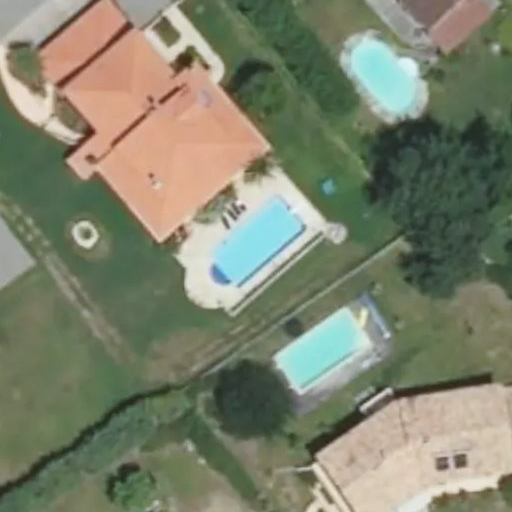pool: (208, 193, 309, 291), (271, 308, 372, 390), (341, 35, 429, 123)
